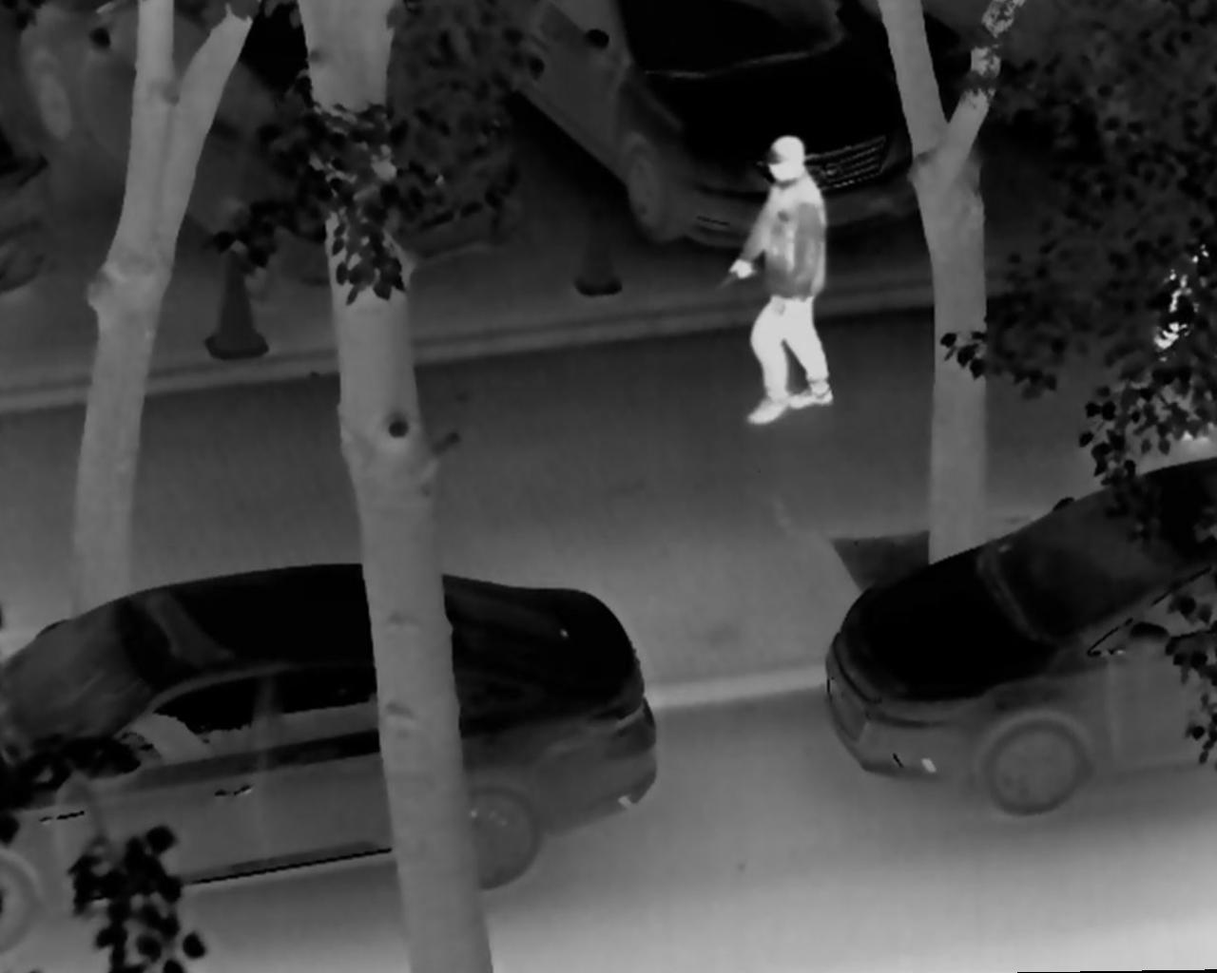person: (722, 133, 838, 429)
